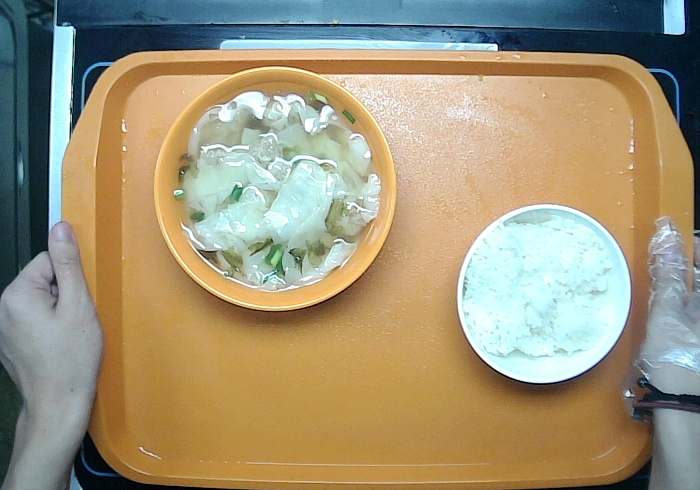NLDX-Fan_Wan: (452, 201, 633, 388)
NLDX-Hun_Tun_Wan: (152, 63, 398, 312)
